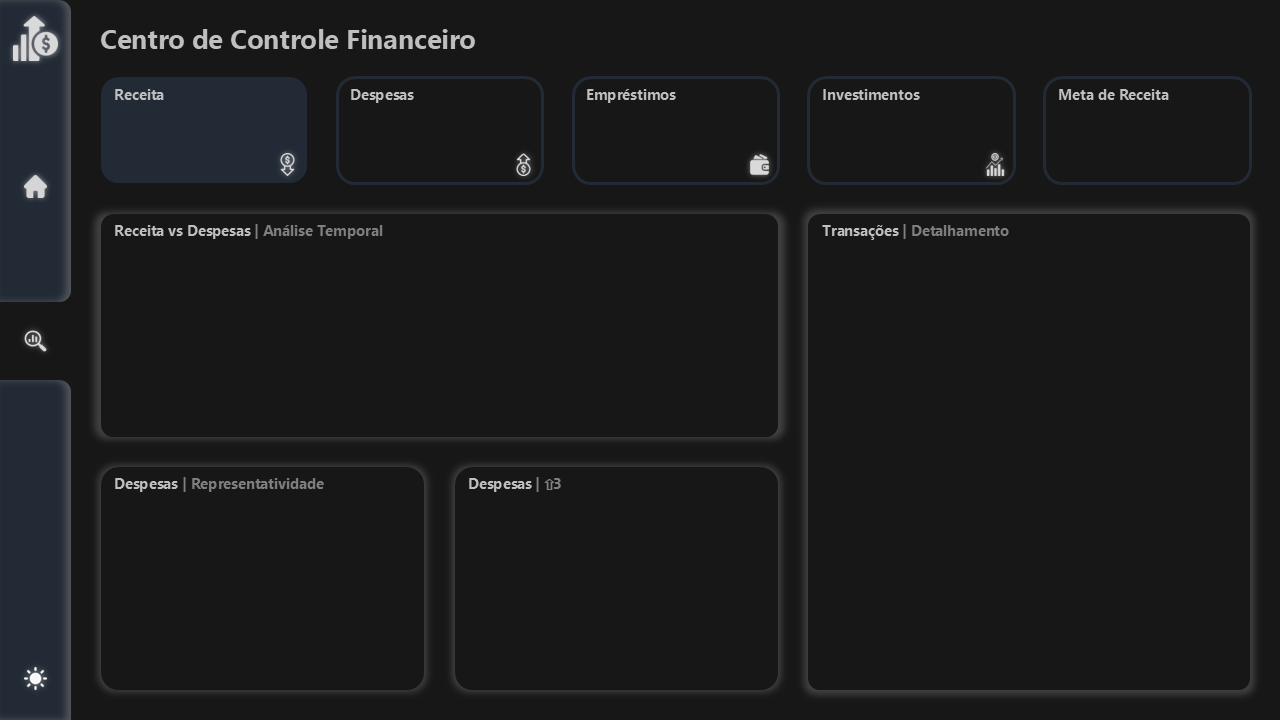

This screenshot's page, from the dashboard's own definition file:
{"tool":"powerbi","page":{"name":"Análise Dark","canvas":[1280,720],"ordinal":1},"visuals":[{"type":"cardVisual","fields":{"Data":["Medidas.ReceitaTotal"]},"box":[102,102,204,62],"z":0},{"type":"cardVisual","fields":{"Data":["Medidas.DespesaTotal"]},"box":[338,102,204,62],"z":1000},{"type":"cardVisual","fields":{"Data":["Medidas.Emprestimos"]},"box":[574,102,204,62],"z":2000},{"type":"cardVisual","fields":{"Data":["Medidas.Investimentos"]},"box":[810,102,204,62],"z":3000},{"type":"slicer","fields":{"Values":["dCalendario.ano"]},"box":[1148.2,22.7,112.9,46.3],"z":4000},{"type":"areaChart","title":"Receita por Período","fields":{"Category":["dCalendario.mes_abreviado"],"Y":["Medidas.ReceitaTotal","Medidas.Despesa"]},"box":[102,238.4,676.1,198],"z":5000},{"type":"clusteredBarChart","title":"Principais Despesas","fields":{"Category":["Financeiro.Detalhe"],"Y":["Medidas.Título Principais Despesas","Medidas.DespesaTotal"]},"box":[455.7,492,322.4,197.6],"z":6000},{"type":"textbox","box":[1091.8,30.6,65.9,31.4],"z":7000},{"type":"pivotTable","fields":{"Rows":["fFinanceiro.Transação","fFinanceiro.Grupo"],"Values":["Medidas.Transações"]},"box":[808,440,442,254],"z":8000},{"type":"treemap","fields":{"Group":["fFinanceiro.Transação"],"Values":["Medidas.Transações"]},"box":[808,238.4,442,200.8],"z":9000},{"type":"gauge","fields":{"TargetValue":["Medidas.Meta Atingida Receita"],"Y":["Medidas.Meta Máxima Receita"]},"box":[1046,102,204,82.4],"z":10000},{"type":"payPalKPIDonutChart55A431AB15A540ED924ACD72ED8D259F","fields":{"myvalue":["Medidas.% Despesas"]},"box":[102,492,322,198],"z":11000},{"type":"actionButton","box":[14.6,166,40,40],"z":12000},{"type":"actionButton","box":[14.9,608,40,40],"z":13000}]}

Visuals, with their boxes on the page's 1280x720 design canvas (x1, y1, x2, y2). These are canvas units, not pixel positions in the 1280x720 screenshot, which may show the page scaled, cropped or inside an application window:
cardVisual - Medidas.ReceitaTotal: <bbox>102, 102, 306, 164</bbox>
cardVisual - Medidas.DespesaTotal: <bbox>338, 102, 542, 164</bbox>
cardVisual - Medidas.Emprestimos: <bbox>574, 102, 778, 164</bbox>
cardVisual - Medidas.Investimentos: <bbox>810, 102, 1014, 164</bbox>
slicer - dCalendario.ano: <bbox>1148, 23, 1261, 69</bbox>
"Receita por Período" areaChart: <bbox>102, 238, 778, 436</bbox>
"Principais Despesas" clusteredBarChart: <bbox>456, 492, 778, 690</bbox>
textbox: <bbox>1092, 31, 1158, 62</bbox>
pivotTable - fFinanceiro.Transação x fFinanceiro.Grupo: <bbox>808, 440, 1250, 694</bbox>
treemap - fFinanceiro.Transação x Medidas.Transações: <bbox>808, 238, 1250, 439</bbox>
gauge - Medidas.Meta Atingida Receita x Medidas.Meta Máxima Receita: <bbox>1046, 102, 1250, 184</bbox>
payPalKPIDonutChart55A431AB15A540ED924ACD72ED8D259F - Medidas.% Despesas: <bbox>102, 492, 424, 690</bbox>
actionButton: <bbox>15, 166, 55, 206</bbox>
actionButton: <bbox>15, 608, 55, 648</bbox>
